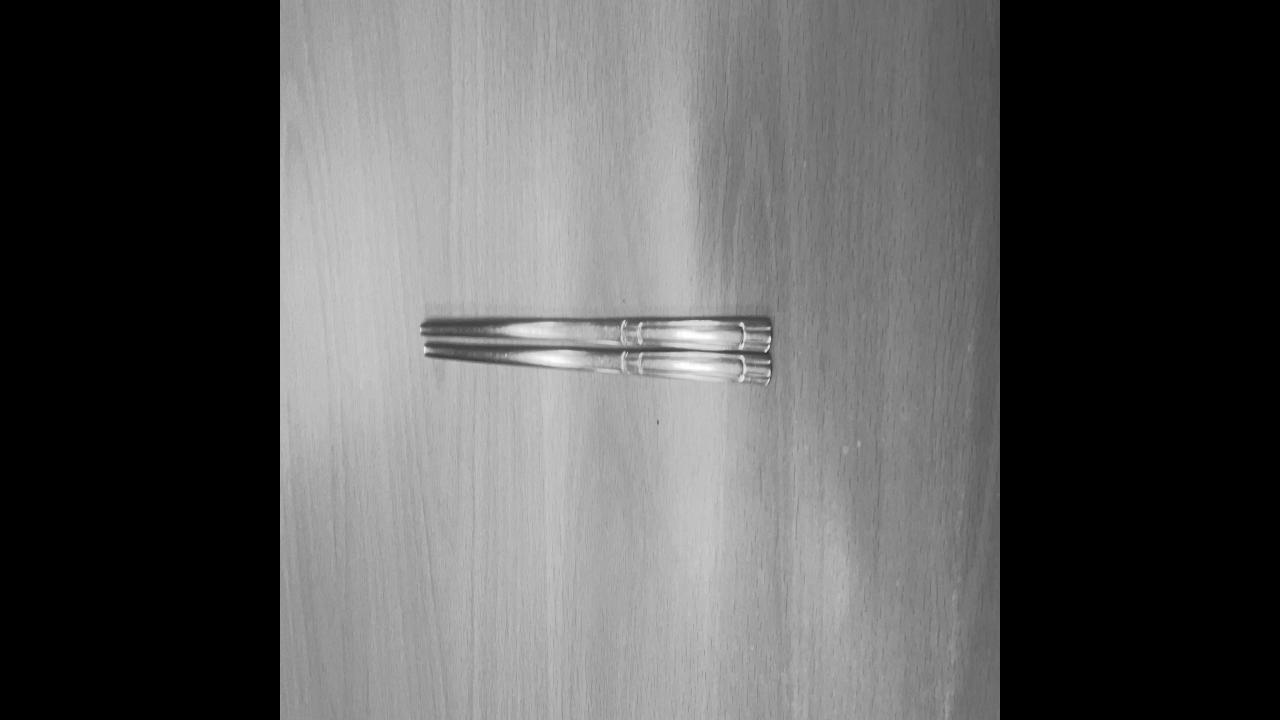chopstick: (417, 313, 777, 390)
